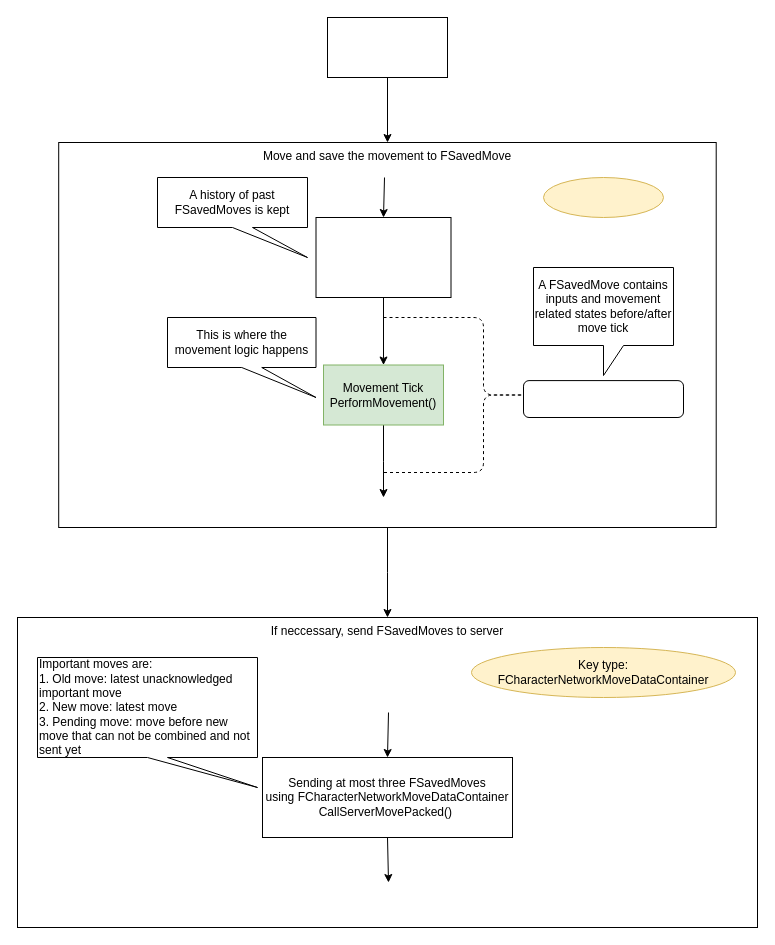
Image size: 775x945. Some labels were removed from this diagram. Here are the shapes that lost their labels. From the top down, the centre of each, then its label:
At (x=387, y=47): "Prepare Input Data".
At (x=603, y=197): "Key type: FSavedMove".
At (x=383, y=257): "Create new FSavedMove and combine with previous saved move if possible".
At (x=603, y=399): "Save the neccessary data in the new FSavedMove".
